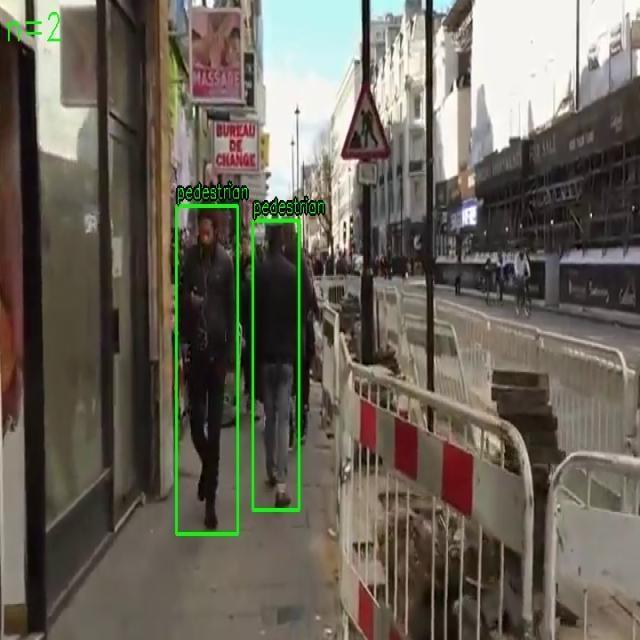person: (176, 205, 238, 535), (252, 220, 300, 510)
